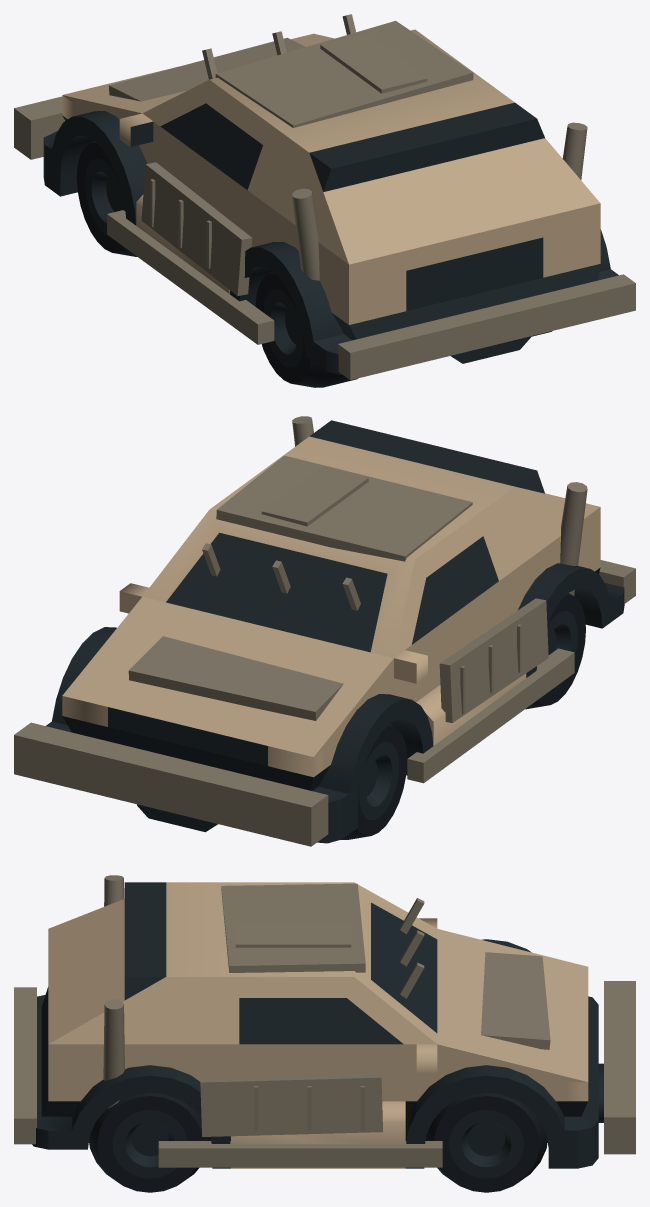
Rendered from WastelandVehicle.glb.
3 renders of one model, top to bottom at view 1: azimuth 30°, elevation 25°; view 2: azimuth 150°, elevation 25°; view 3: azimuth 270°, elevation 25°, orthographic. The views are drawn at different scales.
Visible parts, largest first — view 1: body, RearGuard, RoofSalvage, DoorArmor-1, Sill-1, wheel-back-left, HoodPlate, wheel-front-left, Identification, FrontRam, Exhaust-1, Exhaust1; view 2: body, FrontRam, RoofSalvage, HoodPlate, DoorArmor-1, Sill-1, wheel-front-left, Identification, wheel-back-left, Exhaust-1, RearGuard; view 3: body, DoorArmor1, RoofSalvage, wheel-front-right, wheel-back-right, Sill1, HoodPlate, FrontRam, RearGuard, Identification, Exhaust1, Exhaust-1.
Boxes of the visible parts, x1,y1,x2,y2 form: body: (43, 29, 618, 374); RearGuard: (338, 274, 635, 380); RoofSalvage: (215, 20, 473, 127); DoorArmor-1: (141, 162, 252, 295); Sill-1: (107, 210, 274, 344); wheel-back-left: (255, 271, 357, 387); HoodPlate: (109, 37, 305, 101); wheel-front-left: (76, 140, 136, 256); Identification: (320, 33, 427, 93); FrontRam: (14, 96, 64, 159); Exhaust-1: (292, 188, 319, 280); Exhaust1: (562, 122, 587, 179); body: (46, 420, 624, 843); FrontRam: (14, 722, 328, 846); RoofSalvage: (216, 455, 472, 561); HoodPlate: (128, 636, 343, 720); DoorArmor-1: (439, 598, 548, 722); Sill-1: (407, 648, 574, 783); wheel-front-left: (341, 723, 407, 839); Identification: (261, 466, 368, 526); wheel-back-left: (525, 593, 585, 709); Exhaust-1: (560, 482, 587, 595); RearGuard: (599, 560, 635, 603); body: (32, 882, 603, 1168); DoorArmor1: (200, 1073, 382, 1136); RoofSalvage: (221, 883, 365, 972); wheel-front-right: (425, 1092, 547, 1192); wheel-back-right: (89, 1092, 210, 1192); Sill1: (158, 1141, 442, 1167); HoodPlate: (481, 952, 550, 1049); FrontRam: (604, 981, 635, 1154); RearGuard: (14, 987, 36, 1144); Identification: (235, 923, 351, 947); Exhaust1: (103, 999, 124, 1108); Exhaust-1: (104, 875, 124, 906).
Bounding box in the file's own units: 2.66 × 1.86 × 4.81.
